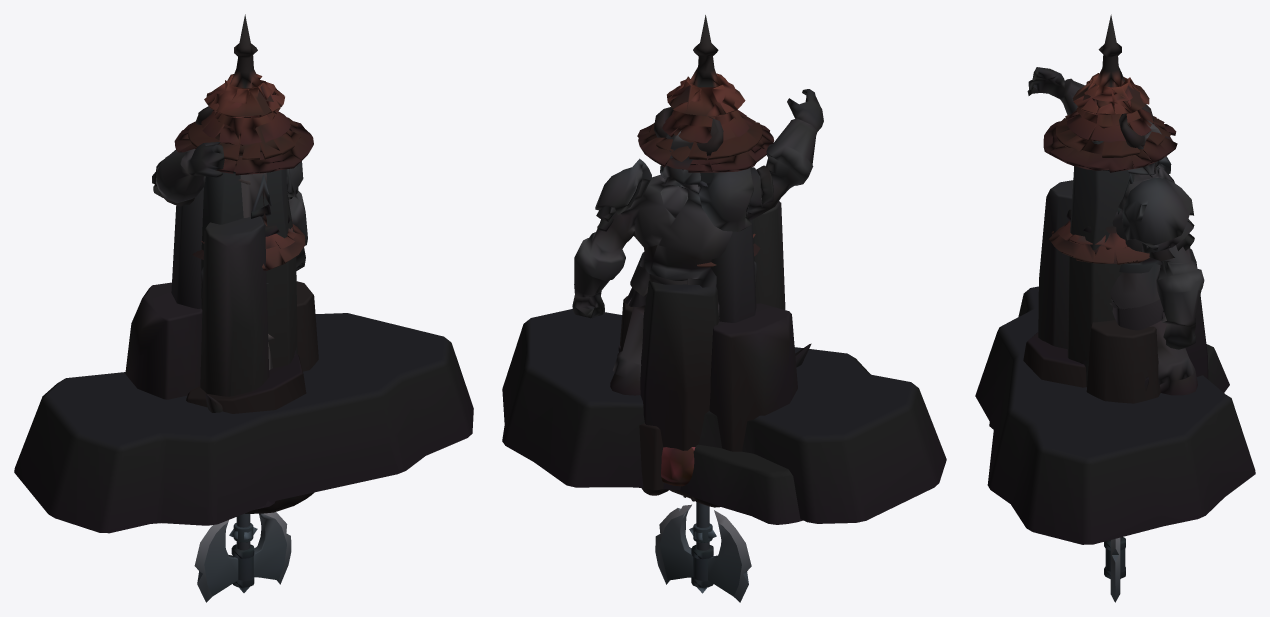
Rendered from hell-kit.glb.
3 views of the same model, side by side, from view 1: azimuth 30°, elevation 25°; view 2: azimuth 150°, elevation 25°; view 3: azimuth 270°, elevation 25° (orthographic).
Parts seen in each view (by area): view 1: PlatformSmall_002, RockBig_001, TowerBig_001, Axe_001, StatueKnight_002, Crag_003; view 2: PlatformSmall_002, RockBig_001, StatueKnight_002, TowerBig_001, PlatformSmall_001, Axe_001, Line004, Crag_003; view 3: PlatformSmall_002, RockBig_001, StatueKnight_002, TowerBig_001, Axe_001, PlatformSmall_001.
Boxes of the visible parts, x1,y1,x2,y2 form: PlatformSmall_002: (14, 313, 473, 533); RockBig_001: (125, 169, 318, 413); TowerBig_001: (174, 14, 313, 369); Axe_001: (194, 512, 291, 602); StatueKnight_002: (152, 106, 307, 270); Crag_003: (201, 267, 314, 513); PlatformSmall_002: (502, 309, 946, 523); RockBig_001: (620, 172, 797, 490); StatueKnight_002: (572, 89, 823, 395); TowerBig_001: (637, 15, 774, 267); PlatformSmall_001: (680, 444, 802, 524); Axe_001: (655, 502, 751, 602); Line004: (661, 447, 695, 486); Crag_003: (618, 261, 811, 507); PlatformSmall_002: (975, 286, 1255, 544); RockBig_001: (1023, 141, 1208, 403); StatueKnight_002: (1027, 67, 1204, 395); TowerBig_001: (1043, 14, 1177, 319); Axe_001: (1104, 537, 1125, 602); PlatformSmall_001: (989, 344, 1229, 429).
Bounding box in the file's own units: 23.99 × 31.18 × 13.88.
